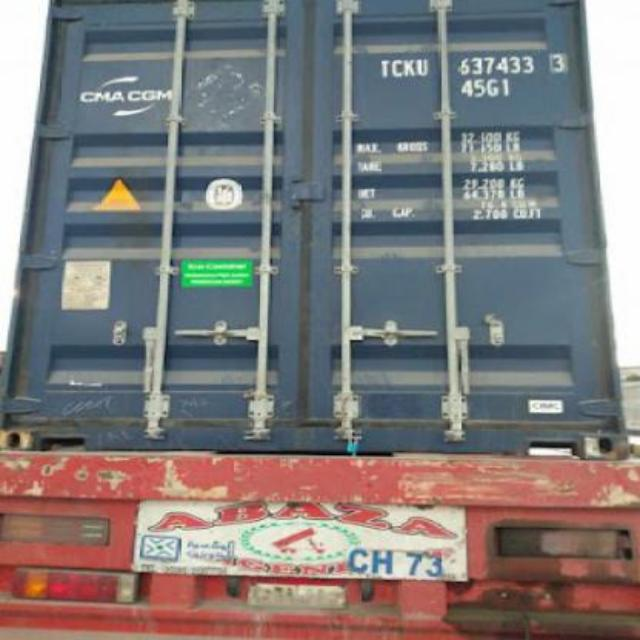3: (520, 50, 538, 80), (548, 51, 566, 75), (508, 51, 524, 77), (468, 54, 484, 74)
4: (496, 49, 509, 76)
6: (456, 46, 469, 80)
7: (482, 53, 496, 77)
C: (391, 54, 404, 82)
K: (402, 48, 416, 82)
T: (374, 52, 392, 82)
U: (414, 52, 430, 78)
